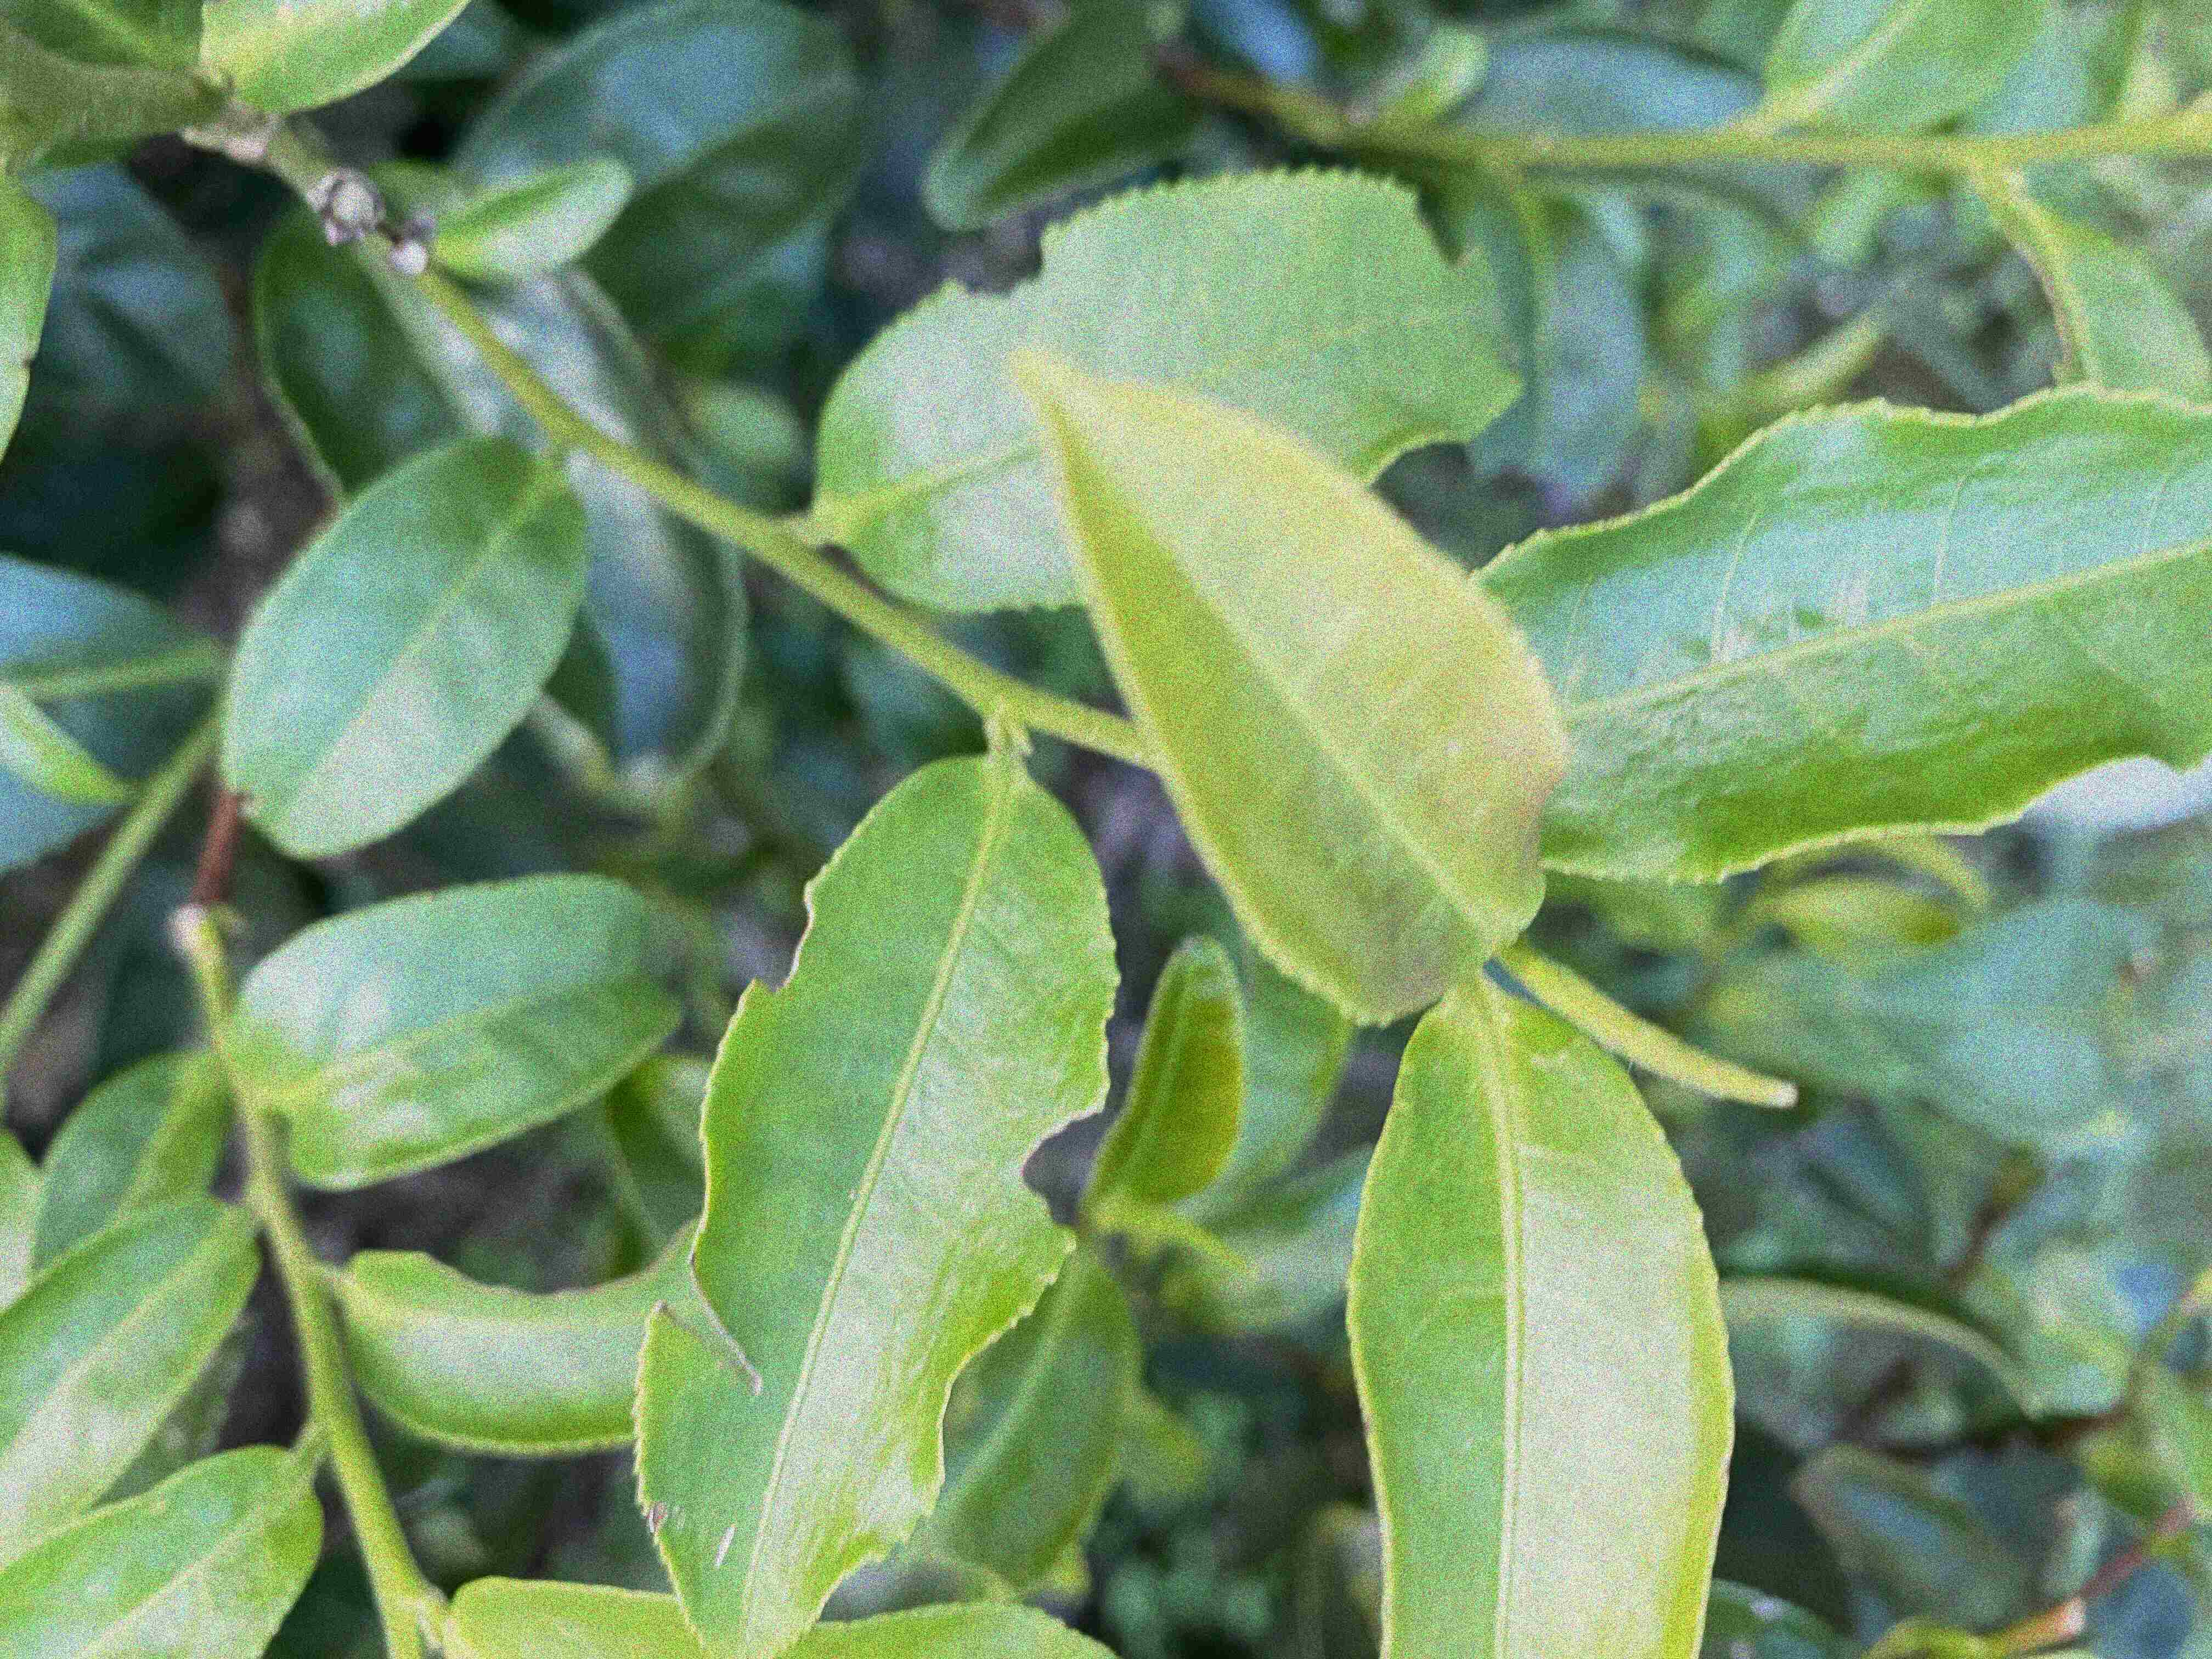chihuo_high: (631, 749, 1125, 1656), (815, 157, 1527, 619), (343, 1223, 702, 1459)
chihuo_low: (211, 439, 599, 859)
tanju_low: (1007, 345, 1573, 1032)
